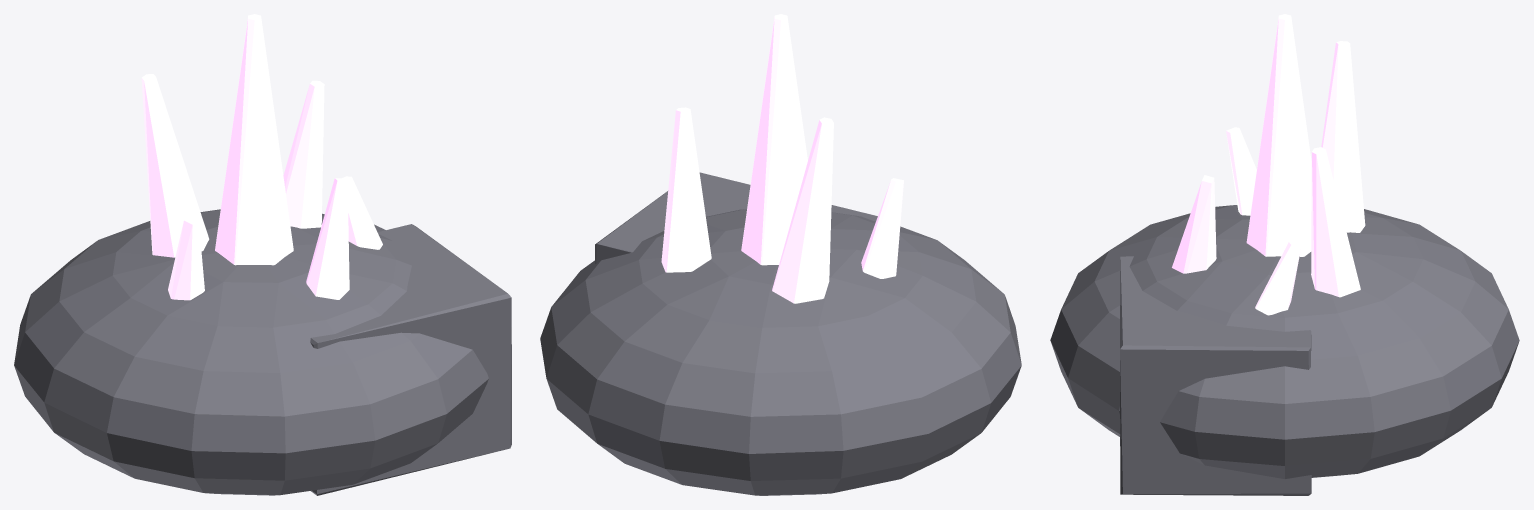
File: cave_crystal_purple.glb
3 renders of one model, left to right at view 1: azimuth 30°, elevation 25°; view 2: azimuth 150°, elevation 25°; view 3: azimuth 270°, elevation 25°, orthographic. The views are drawn at different scales.
Visible parts, largest first — view 1: cave_crystal_purple; view 2: cave_crystal_purple; view 3: cave_crystal_purple.
Boxes of the visible parts, box(x1,y1,x2,y2) form: cave_crystal_purple: box(14, 14, 511, 495); cave_crystal_purple: box(540, 14, 1021, 495); cave_crystal_purple: box(1050, 14, 1519, 495).
Bounding box in the file's own units: 0.678 × 0.6755 × 0.678.
